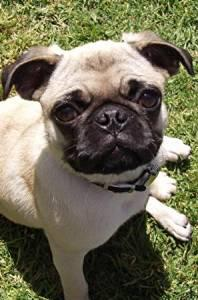dog-pug: (1, 28, 192, 172)
